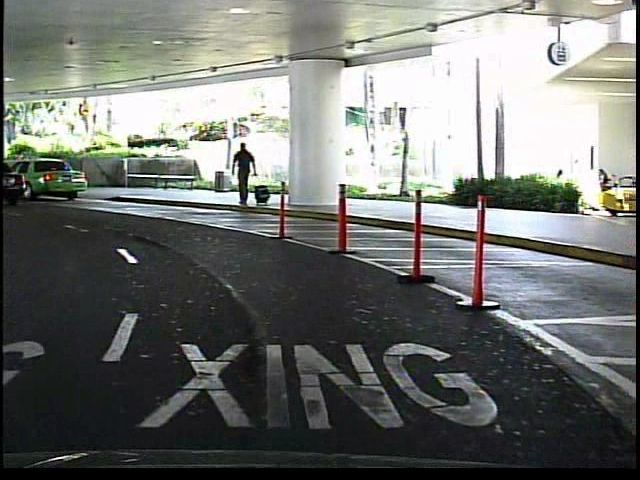person: (231, 139, 262, 211)
